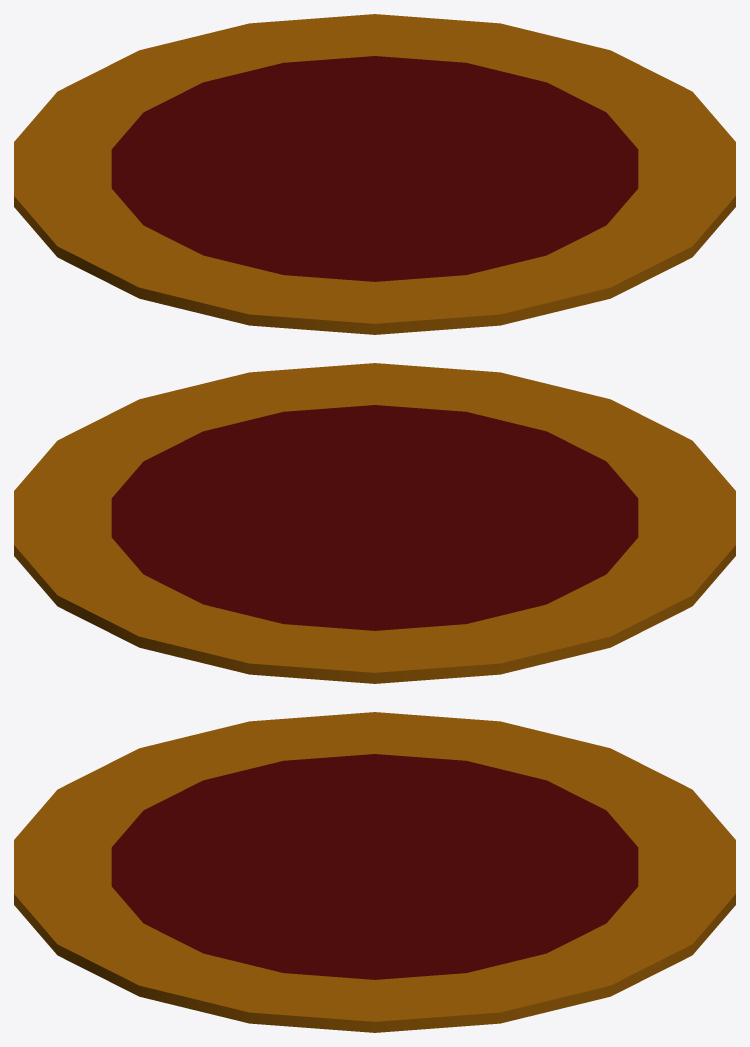
File: Rug Large.FBX
The picture shows the model from 3 angles, top to bottom: view 1: azimuth 30°, elevation 25°; view 2: azimuth 150°, elevation 25°; view 3: azimuth 270°, elevation 25°; orthographic projection.
Parts seen in each view (by area): view 1: Round Rug; view 2: Round Rug; view 3: Round Rug.
Part boxes in pixels (x1,y1,x2,y2): Round Rug: (14,14,735,334); Round Rug: (14,363,735,683); Round Rug: (14,712,735,1032).
Size of the model in its own units: 3 by 0.05 by 2.95.
